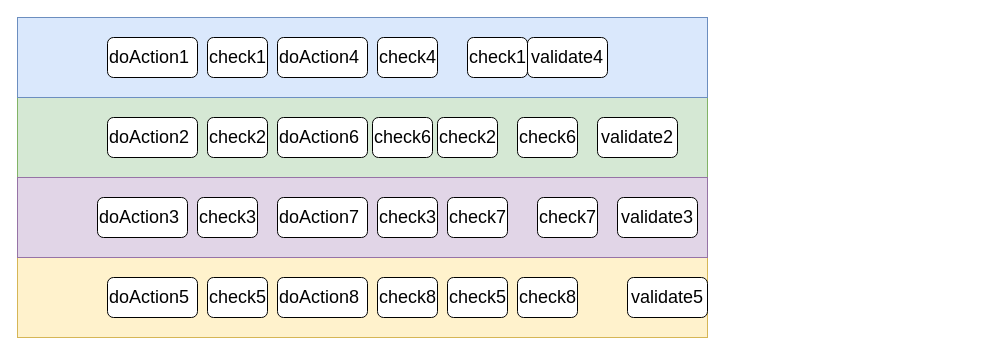
Image size: 985x355. Some labels were removed from this diagram. Each missing label, with the box of its shape:
Thread 1: (16, 16, 708, 98)
Thread 2: (16, 96, 708, 178)
Thread 3: (16, 176, 708, 258)
Thread 4: (16, 256, 708, 338)
